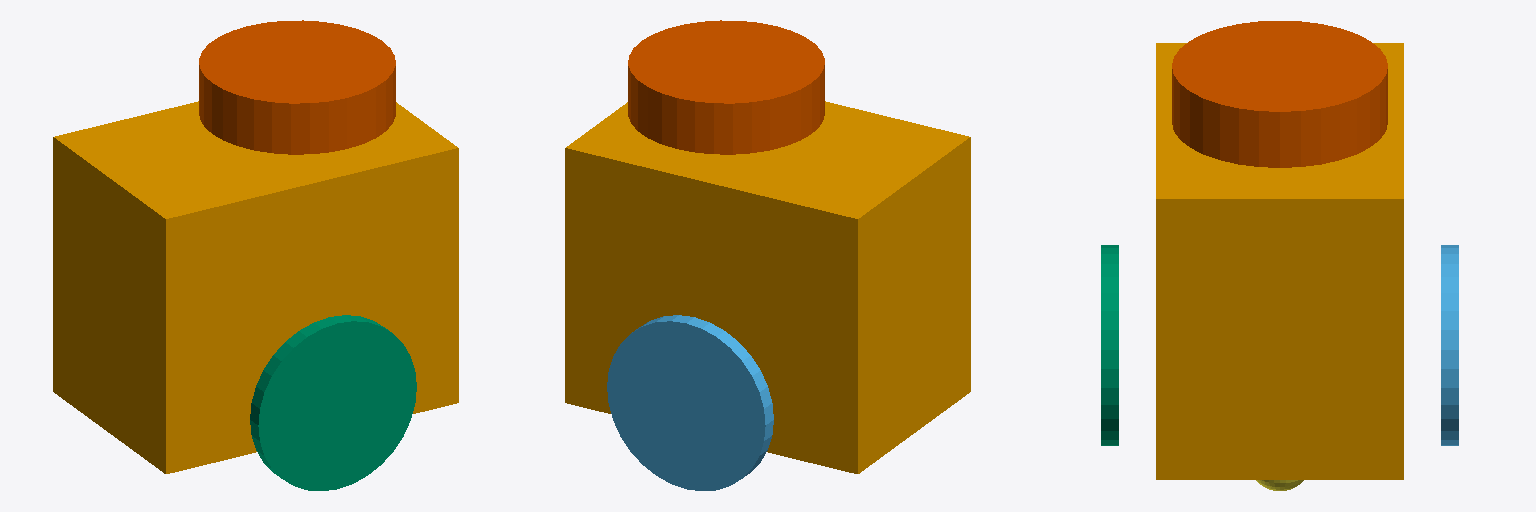
robot.urdf — simple_car:
<?xml version="1.0"?>
<robot name="simple_car">
    <!-- Base link -->
    <link name="base_link">
      <visual>
        <geometry>
          <box size="0.12 0.08 0.10"/>
        </geometry>
        <origin xyz="0.0 0.0 0.0625" rpy="0.0 0.0 0.0"/>
      </visual>
      <collision>
        <geometry>
          <box size="0.13 0.09 0.12"/>
          <!-- <cylinder radius="0.1" length="0.10"/> -->
        </geometry>
        <origin xyz="0.0 0.0 0.0625" rpy="0.0 0.0 0.0"/>
      </collision>
      <inertial>
        <mass value="1.0"/>
        <origin xyz="0.0 0.0 0.0625" rpy="0 0 0"/>
        <inertia 
          ixx="0.01" ixy="0.0" ixz="0.0"
          iyy="0.01" iyz="0.0"
          izz="0.01"/>
      </inertial>
    </link>
    <!-- Left wheel link -->
    <link name="left_wheel_link">
      <visual>
        <geometry>
          <cylinder radius="0.0325" length="0.006"/>
        </geometry>
      </visual>
      <collision>
        <geometry>
          <cylinder radius="0.0325" length="0.006"/>
        </geometry>
      </collision>
      <inertial>
        <mass value="0.5"/>
        <origin xyz="0 0 0" rpy="0 0 0"/>
        <inertia 
          ixx="0.00026" ixy="0.0" ixz="0.0"
          iyy="0.00026" iyz="0.0"
          izz="0.00026"/>
      </inertial>      
    </link>
    <!-- Right wheel link -->
    <link name="right_wheel_link">
      <visual>
        <geometry>
          <cylinder radius="0.0325" length="0.006"/>
        </geometry>
      </visual>
      <collision>
        <geometry>
          <cylinder radius="0.0325" length="0.006"/>
        </geometry>
      </collision>
      <inertial>
        <mass value="0.5"/>
        <origin xyz="0 0 0" rpy="0 0 0"/>
        <inertia 
          ixx="0.00026" ixy="0.0" ixz="0.0"
          iyy="0.00026" iyz="0.0"
          izz="0.00026"/>
      </inertial>      
    </link>

    <gazebo reference="left_wheel_link">
      <!-- 摩擦系数：提供抓地力 -->
      <mu1>30.0</mu1>
      <mu2>30.0</mu2>
      <!-- 接触刚度：让车轮坚硬（不易变形） -->
      <kp>500000</kp>
      <!-- 接触阻尼：吸收震动，防止弹跳（kd/kp ≈ 0.02） -->
      <kd>10000</kd>
    </gazebo>

    <gazebo reference="right_wheel_link">
      <!-- 摩擦系数：提供抓地力 -->
      <mu1>30.0</mu1>
      <mu2>30.0</mu2>
      <!-- 接触刚度：让车轮坚硬（不易变形） -->
      <kp>500000</kp>
      <!-- 接触阻尼：吸收震动，防止弹跳 -->
      <kd>10000</kd>
    </gazebo>  

    <!-- Front Support Link -->
    <link name="front_support">
      <visual>
        <geometry>
          <sphere radius="0.01"/>
        </geometry>
        <origin xyz="0.0 0.0 0.01" rpy="0.0 0.0 0.0"/>
      </visual>
      <collision>
        <geometry>
          <sphere radius="0.01"/>
        </geometry>
        <origin xyz="0.0 0.0 0.01" rpy="0.0 0.0 0.0"/>
      </collision>
      <inertial>
        <mass value="1.0"/>
        <origin xyz="0.0 0.0 0.01" rpy="0 0 0"/>
        <inertia 
          ixx="0.001" ixy="0.0" ixz="0.0"
          iyy="0.001" iyz="0.0"
          izz="0.001"/>
      </inertial>
    </link>
    <!-- Back Support Link -->
    <link name="back_support">
      <visual>
        <geometry>
          <sphere radius="0.01"/>
        </geometry>
        <origin xyz="0.0 0.0 0.01" rpy="0.0 0.0 0.0"/>
      </visual>
      <collision>
        <geometry>
          <sphere radius="0.01"/>
        </geometry>
        <origin xyz="0.0 0.0 0.01" rpy="0.0 0.0 0.0"/>
      </collision>
      <inertial>
        <mass value="1.0"/>
        <origin xyz="0.0 0.0 0.01" rpy="0 0 0"/>
        <inertia 
          ixx="0.001" ixy="0.0" ixz="0.0"
          iyy="0.001" iyz="0.0"
          izz="0.001"/>
      </inertial>
    </link>    

    <gazebo reference="front_support">
      <material>Gazebo/Black</material>
      <mu1>0.0001</mu1>
      <mu2>0.0001</mu2>
      <kp>500000</kp>
      <kd>10000</kd>
    </gazebo>
    <gazebo reference="back_support">
      <material>Gazebo/Black</material>
      <mu1>0.0001</mu1>
      <mu2>0.0001</mu2>
      <kp>500000</kp>
      <kd>10000</kd>
    </gazebo>

    <!-- LIDAR Link -->
    <link name="lidar_link">
      <visual>
        <geometry>
          <cylinder radius="0.035" length="0.02"/>
        </geometry>
      </visual>
      <collision>
        <geometry>
          <cylinder radius="0.035" length="0.02"/>
        </geometry>
      </collision>
      <inertial>
        <mass value="0.2"/>
        <origin xyz="0 0 0" rpy="0 0 0"/>
        <inertia 
          ixx="0.0001" ixy="0.0" ixz="0.0"
          iyy="0.0001" iyz="0.0"
          izz="0.0001"/>
      </inertial>
    </link>

<!-- Joints -->
    <joint name="left_wheel" type="continuous">
      <parent link="base_link"/>
      <child link="left_wheel_link"/>
      <origin xyz="0.0 0.055 0.0325" rpy="1.5708 0 0"/>
      <axis xyz="0 0 1"/>
    </joint>
    <joint name="right_wheel" type="continuous">
      <parent link="base_link"/>
      <child link="right_wheel_link"/>
      <origin xyz="0.0 -0.055 0.0325" rpy="1.5708 0 0"/>
      <axis xyz="0 0 1"/>
    </joint>
    <joint name="front_support" type="fixed">
      <parent link="base_link"/>
      <child link="front_support"/>
      <origin xyz="0.04 0.0 0.0" rpy="0 0 0"/>
    </joint>
    <joint name="back_support" type="fixed">
      <parent link="base_link"/>
      <child link="back_support"/>
      <origin xyz="-0.04 0.0 0.0" rpy="0 0 0"/>
    </joint>
    <joint name="lidar" type="fixed">
      <parent link="base_link"/>
      <child link="lidar_link"/>
      <origin xyz="0.017 0.0 0.13" rpy="0 0 0"/>
    </joint>

<!-- Diff Drive Plugin -->
  <gazebo>
    <plugin name="diff_drive" filename="libgazebo_ros_diff_drive.so">

      <ros>
        <namespace>/</namespace>
        <remapping>cmd_vel:=cmd_vel</remapping>
      </ros>

      <left_joint>left_wheel</left_joint>
      <right_joint>right_wheel</right_joint>

      <wheel_separation>0.11</wheel_separation>
      <wheel_radius>0.0325</wheel_radius>
      <wheel_diameter>0.065</wheel_diameter>
      <publish_odom>true</publish_odom>
      <publish_odom_tf>true</publish_odom_tf>

    </plugin>
  </gazebo>   

  <!-- LIDAR Sensor -->
  <gazebo reference="lidar_link">
    <material>Gazebo/Red</material>
    <sensor type="ray" name="lidar_sensor">
      <update_rate>10</update_rate>
      <ray>
        <scan>
          <horizontal>
            <samples>300</samples>
            <resolution>1</resolution>
            <min_angle>-3.14159</min_angle>
            <max_angle>3.14159</max_angle>
          </horizontal>
        </scan>
        <range>
          <min>0.09</min>
          <max>10.0</max>
          <resolution>0.01</resolution>
        </range>
      </ray>
      <noise>
        <type>gaussian</type>
        <mean>0.0</mean>
        <stddev>0.01</stddev>
      </noise>

      <plugin name="gazebo_ros_laser" filename="libgazebo_ros_ray_sensor.so">
        <ros>
          <namespace>/</namespace>
          <remapping>~/out:=scan</remapping>
        </ros>
        <output_type>sensor_msgs/LaserScan</output_type>
        <frameName>lidar_link</frameName>
      </plugin>
    </sensor>
  </gazebo>


  <!--END  -->
</robot>

--- What the picture shows (computed from the rendered views, not written in the file) ---
Views: 3 orthographic renders of the robot side by side, from view 1: azimuth 30°, elevation 25°; view 2: azimuth 150°, elevation 25°; view 3: azimuth 270°, elevation 25°.
Robot: simple_car — 6 links, 5 joints (2 continuous, 3 fixed); root link base_link; default pose: all joints at 0.
Links seen in each view (by area): view 1: base_link, lidar_link, right_wheel_link; view 2: base_link, lidar_link, left_wheel_link; view 3: base_link, lidar_link, left_wheel_link, right_wheel_link.
Link boxes in pixels (bbox=[...]): base_link: bbox=[53, 101, 458, 473]; lidar_link: bbox=[199, 20, 395, 154]; right_wheel_link: bbox=[250, 315, 416, 490]; base_link: bbox=[565, 101, 970, 473]; lidar_link: bbox=[628, 20, 824, 154]; left_wheel_link: bbox=[607, 315, 773, 490]; base_link: bbox=[1156, 43, 1403, 479]; lidar_link: bbox=[1172, 21, 1387, 167]; left_wheel_link: bbox=[1441, 245, 1458, 445]; right_wheel_link: bbox=[1101, 245, 1118, 445].
Size in the robot's own frame: 0.12 by 0.116 by 0.14 metres.
Geometry: primitives only (box / cylinder / sphere), no mesh files.
